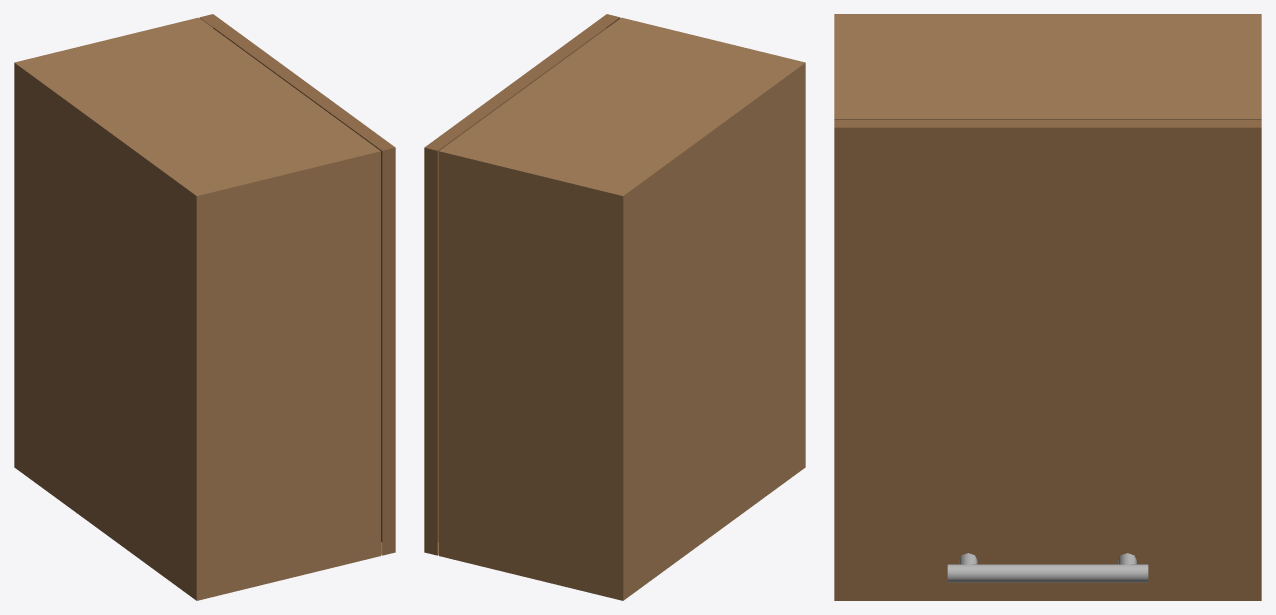
Rendered from kitchen_shelf_3.FBX.
The picture shows the model from 3 angles, left to right: view 1: azimuth 30°, elevation 25°; view 2: azimuth 150°, elevation 25°; view 3: azimuth 270°, elevation 25°; orthographic projection. The views are drawn at different scales.
Parts seen in each view (by area): view 1: kitchen_shelf_3; view 2: kitchen_shelf_3; view 3: kitchen_shelf_3.
Part boxes in pixels (bbox=[...]): kitchen_shelf_3: bbox=[14, 14, 395, 600]; kitchen_shelf_3: bbox=[424, 14, 805, 600]; kitchen_shelf_3: bbox=[834, 14, 1261, 600].
Size of the model in its own units: 0.3726 by 0.6301 by 0.5151.
